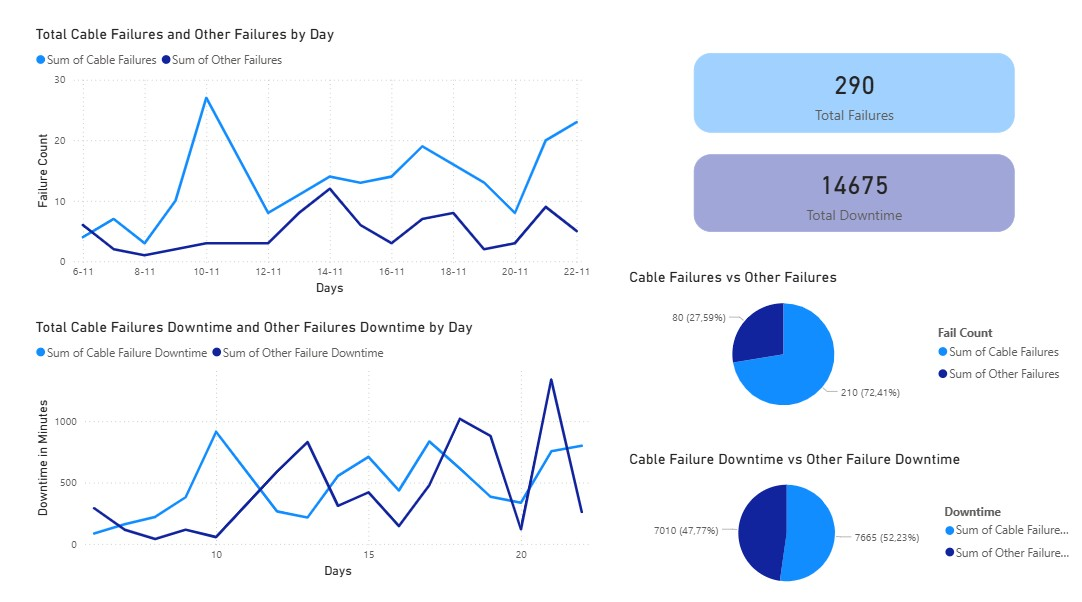

This screenshot's page, from the dashboard's own definition file:
{"tool":"powerbi","page":{"name":"Time Trend","canvas":[1280,720],"ordinal":0},"visuals":[{"type":"lineChart","title":"Total Cable Failures and Other Failures by Day","fields":{"Y":["Sum(copper_cables.Cable Failures)","Sum(copper_cables.Other Failures)"],"Category":["copper_cables.Date.Variation.Date Hierarchy.Year","copper_cables.Date.Variation.Date Hierarchy.Month","copper_cables.Date.Variation.Date Hierarchy.Day"]},"box":[53.4,37.5,650.7,316],"z":0},{"type":"lineChart","title":"Total Cable Failures Downtime and Other Failures Downtime by Day","fields":{"Category":["copper_cables.Date.Variation.Date Hierarchy.Year","copper_cables.Date.Variation.Date Hierarchy.Month","copper_cables.Date.Variation.Date Hierarchy.Day"],"Y":["Sum(copper_cables.Cable Failure Downtime)","Sum(copper_cables.Other Failure Downtime)"]},"box":[53.4,375.1,650.7,304.4],"z":1},{"type":"pieChart","title":"Cable Failure Downtime vs Other Failure Downtime","fields":{"Y":["Sum(copper_cables.Cable Failure Downtime)","Sum(copper_cables.Other Failure Downtime)"]},"box":[738.7,528.1,529.5,171.7],"z":2},{"type":"pieChart","title":"Cable Failures vs Other Failures","fields":{"Y":["Sum(copper_cables.Cable Failures)","Sum(copper_cables.Other Failures)"]},"box":[738.7,317.4,515.1,180.3],"z":3},{"type":"card","fields":{"Values":["copper_cables.Total Failures"]},"box":[818,69.3,370.8,92.3],"z":4},{"type":"card","fields":{"Values":["copper_cables.Total Downtime"]},"box":[818,186.1,370.8,89.5],"z":5}]}

Visuals, with their boxes in screenshot pixels (x1, y1, x2, y2), scaled from the page's 1280x720 canvas onto the 1082x602 screenshot:
"Total Cable Failures and Other Failures by Day" lineChart: x1=45 y1=31 x2=595 y2=296
"Total Cable Failures Downtime and Other Failures Downtime by Day" lineChart: x1=45 y1=314 x2=595 y2=568
"Cable Failure Downtime vs Other Failure Downtime" pieChart: x1=624 y1=442 x2=1072 y2=585
"Cable Failures vs Other Failures" pieChart: x1=624 y1=265 x2=1060 y2=416
card - copper_cables.Total Failures: x1=691 y1=58 x2=1005 y2=135
card - copper_cables.Total Downtime: x1=691 y1=156 x2=1005 y2=230
